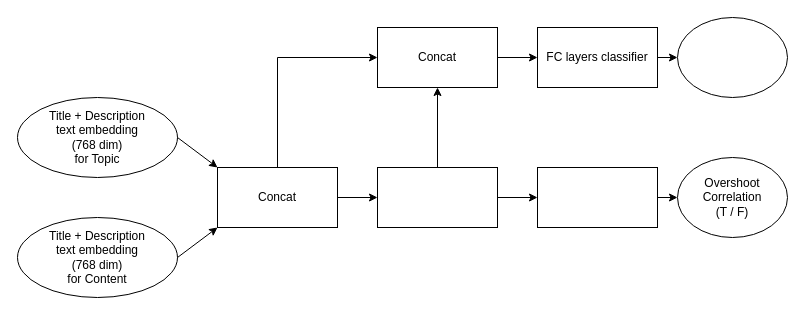
Some shapes in this 805 by 315 pixel diagram are drawn without their labels. The shapes that lost their labels are listed below. From the top down, each one's centre as x and y in pixels, then its label:
point (732, 57): Correlation (T / F)
point (437, 197): FC layers
point (597, 197): Single layer (FC classifier)
